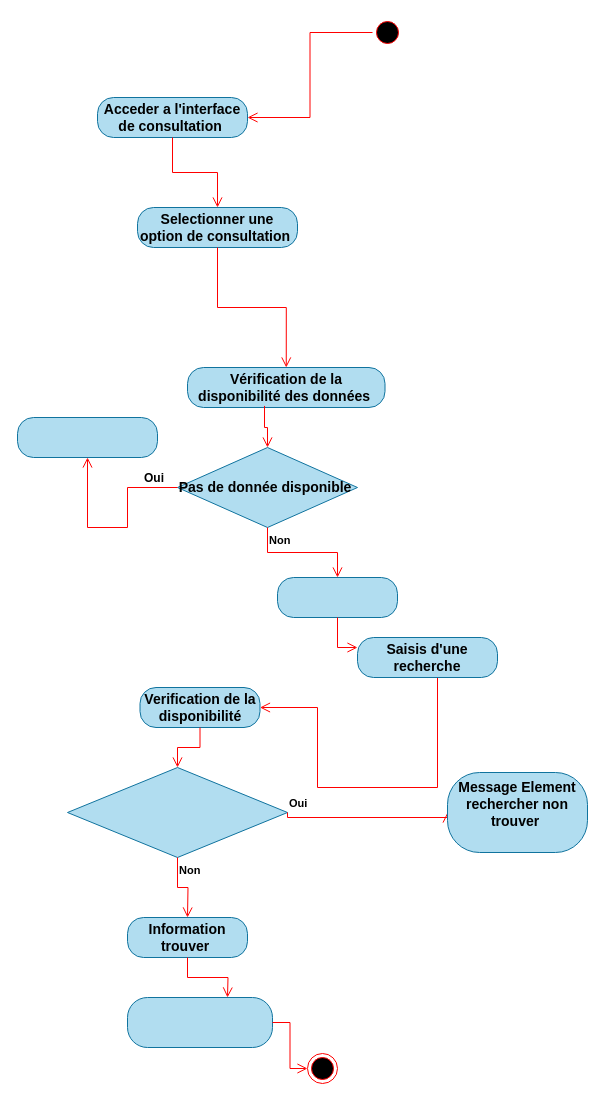
Some shapes in this 605 by 1101 pixel diagram are drawn without their labels. Here are the shapes that lost their labels. From the top down, the centre of each, then its label:
At [87,437]: "Message liste vide".
At [337,597]: "liste afficher".
At [177,812]: "Element rechercher indisponible".
At [199,1022]: "Afficher les résultats de l'element rechercher".
